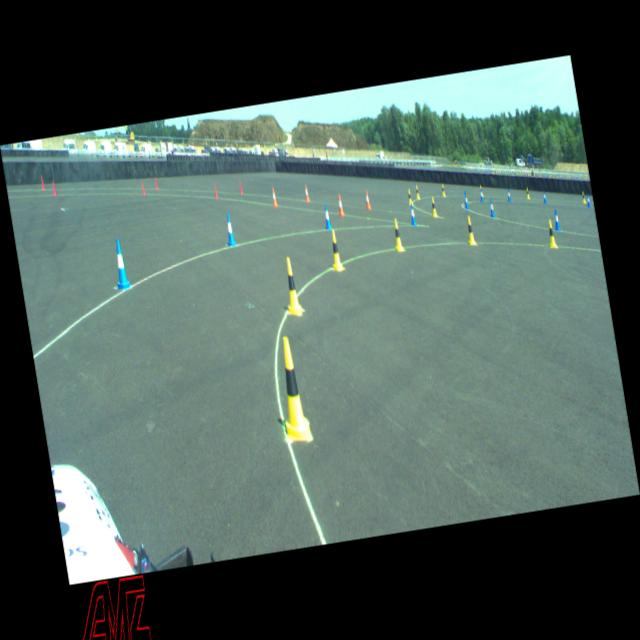blue_cone: (110, 238, 132, 292), (223, 213, 236, 246), (322, 203, 332, 230), (408, 203, 416, 226), (553, 209, 561, 231), (488, 200, 495, 218), (463, 194, 469, 208), (506, 190, 512, 202), (479, 188, 484, 202), (586, 194, 591, 207), (542, 190, 547, 203)
orange_cone: (336, 194, 344, 216), (270, 187, 278, 207), (364, 190, 371, 210), (304, 184, 310, 201)
unknown_cone: (213, 185, 218, 199), (141, 182, 146, 195), (40, 177, 45, 190), (52, 182, 56, 195), (154, 177, 158, 189), (239, 182, 243, 194)
yellow_cone: (272, 336, 312, 444), (281, 256, 303, 316), (328, 230, 344, 271), (392, 219, 404, 251), (546, 220, 558, 248), (465, 216, 476, 245), (430, 196, 438, 217), (407, 189, 413, 205), (440, 184, 446, 196), (415, 184, 420, 198), (526, 187, 530, 199), (582, 192, 586, 202), (480, 185, 483, 196)
